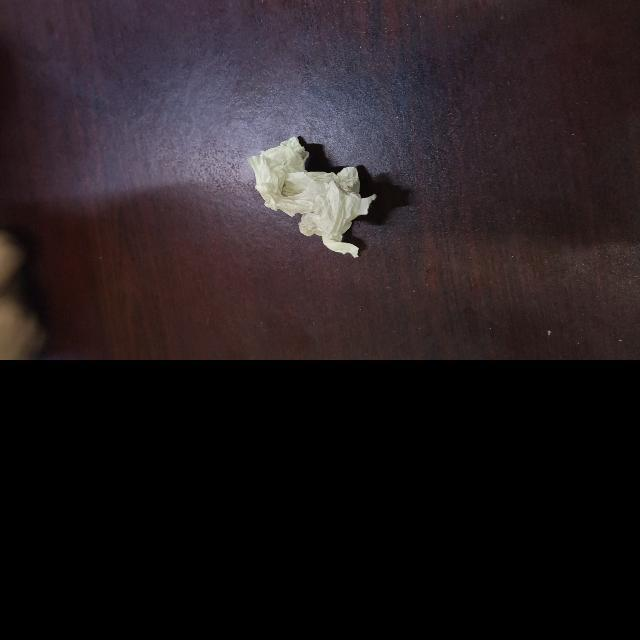kitchen paper: (244, 134, 389, 260)
